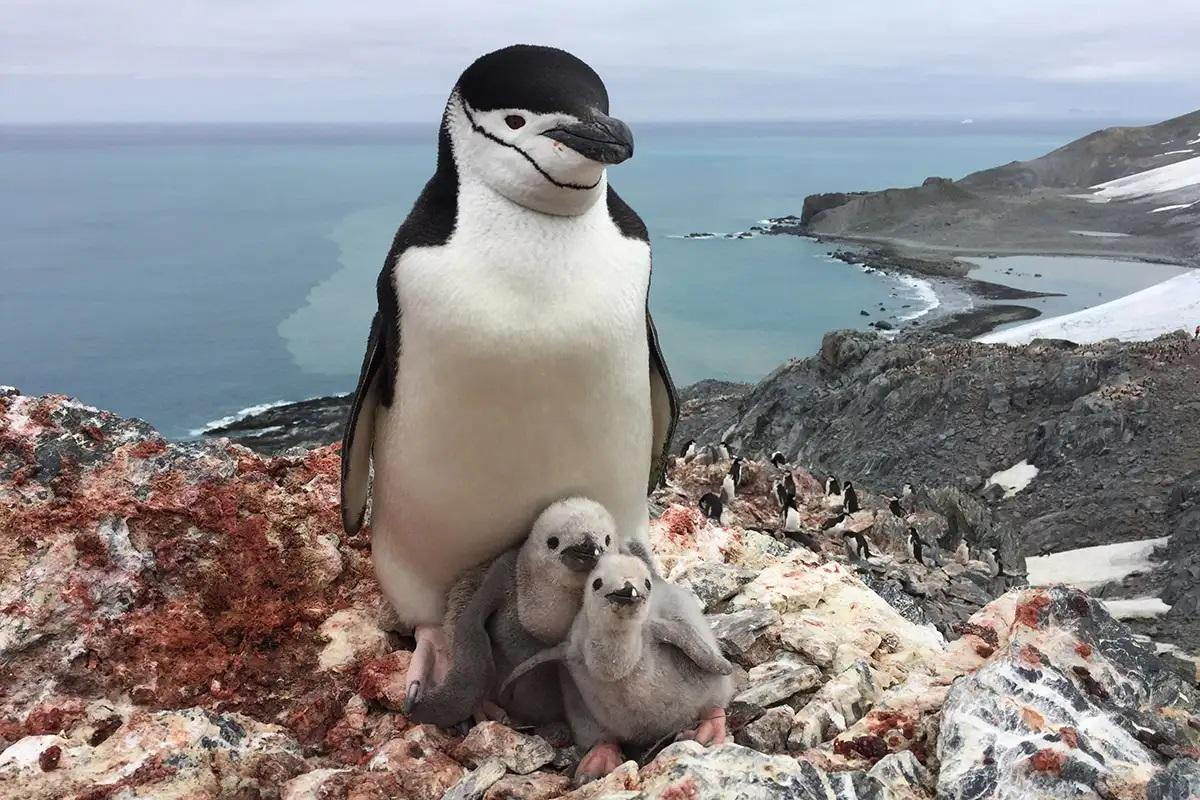chinstrap: (269, 19, 700, 727)
